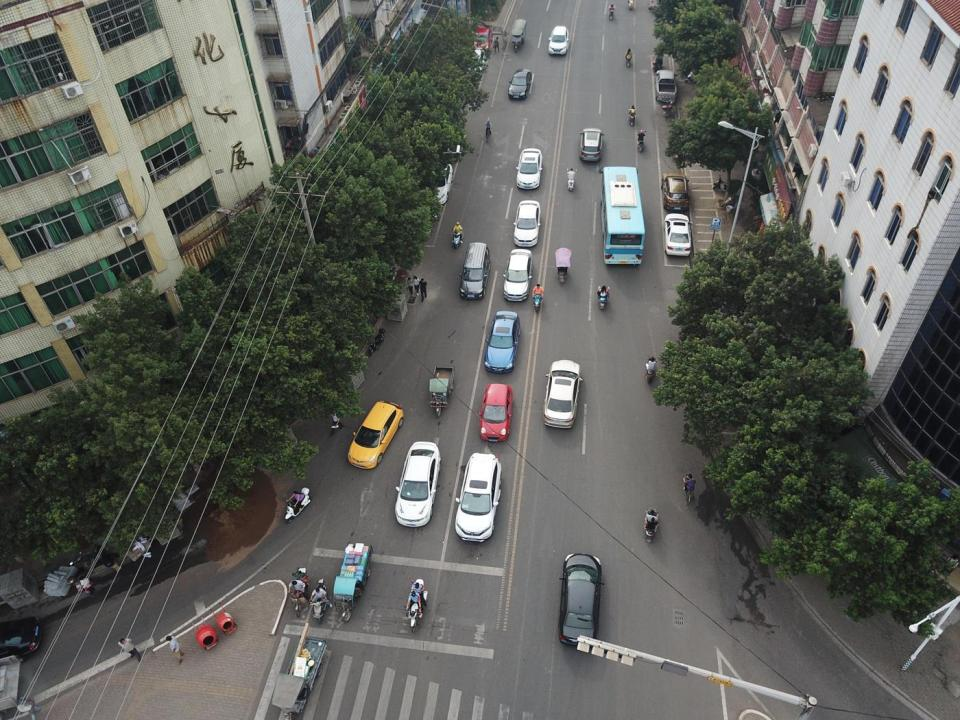bus: (599, 166, 646, 266)
car: (455, 452, 501, 544), (396, 440, 441, 530), (560, 552, 602, 648), (347, 400, 403, 470), (542, 356, 583, 433), (484, 312, 522, 372), (0, 615, 44, 662), (479, 383, 513, 442), (502, 248, 534, 301), (663, 213, 693, 259), (513, 200, 541, 248), (423, 164, 453, 204), (660, 172, 689, 211), (516, 148, 543, 189), (508, 67, 533, 102), (580, 128, 604, 163), (548, 25, 570, 56), (465, 51, 487, 74), (475, 27, 493, 51)
truck: (653, 69, 677, 104)
van: (460, 242, 491, 299)
